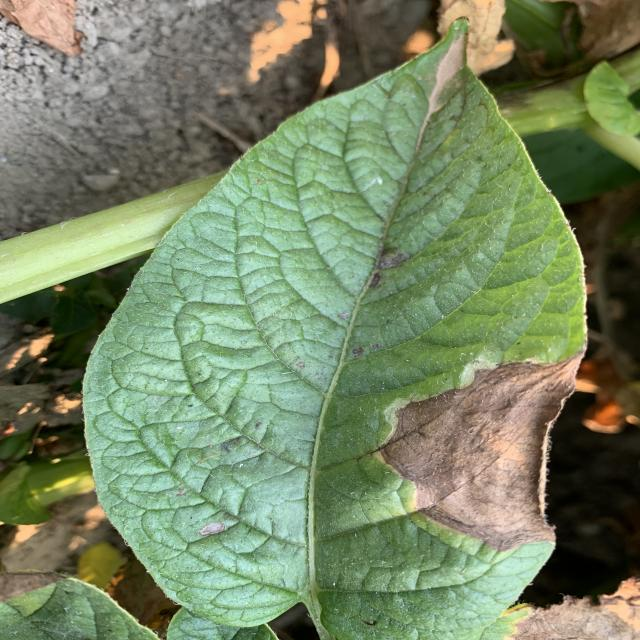lateblight: (380, 352, 582, 551)
